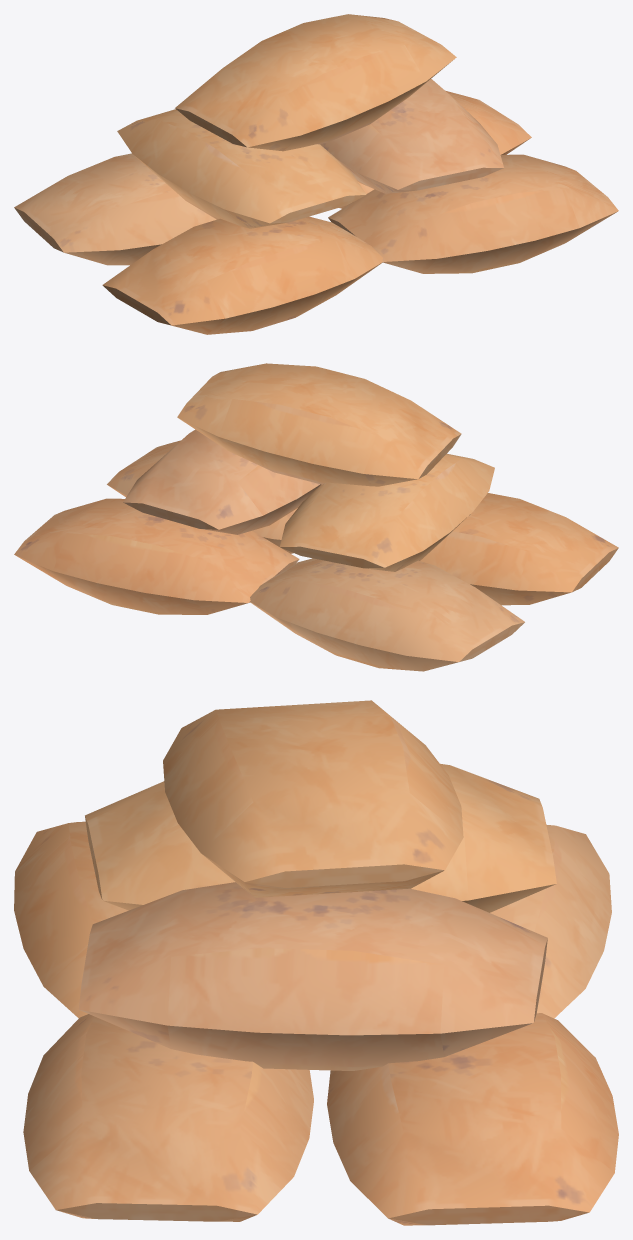
The model's file is sacks_low.fbx.
3 views of the same model, one above another, from view 1: azimuth 30°, elevation 25°; view 2: azimuth 150°, elevation 25°; view 3: azimuth 270°, elevation 25° (orthographic). The views are drawn at different scales.
Visible parts, largest first — view 1: sacks; view 2: sacks; view 3: sacks.
Boxes of the visible parts, <box> form: sacks: <box>14,14,618,334</box>; sacks: <box>14,363,618,671</box>; sacks: <box>14,700,618,1225</box>.
Size of the model in its own units: 6.15 by 2.5 by 3.98.
Materials: 1 (1 with a texture image).
